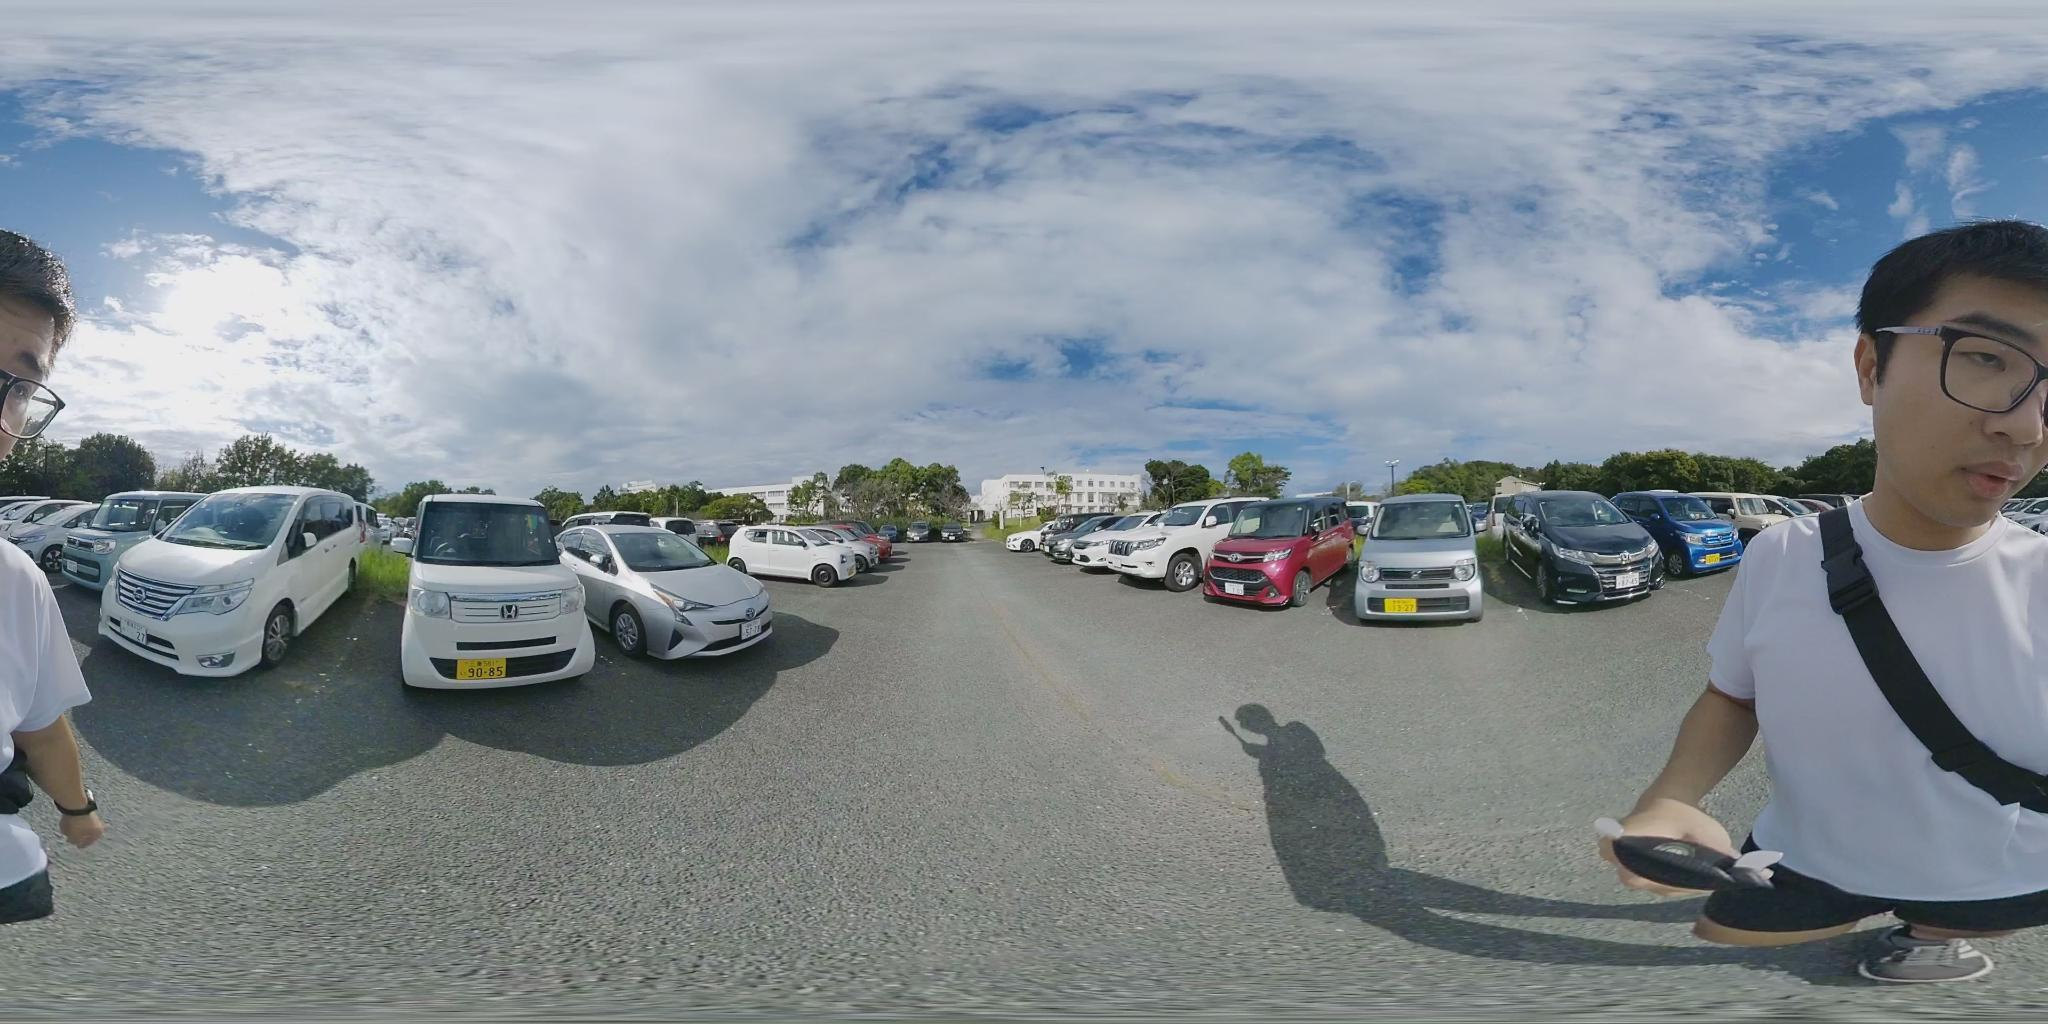car: (97, 490, 387, 680), (562, 525, 784, 661), (1481, 491, 1673, 610), (1068, 495, 1292, 590), (1195, 495, 1361, 610), (21, 496, 213, 593), (1358, 495, 1484, 623), (1614, 490, 1752, 576), (718, 521, 887, 588), (1688, 491, 1821, 536), (3, 496, 93, 542), (933, 526, 973, 543)
